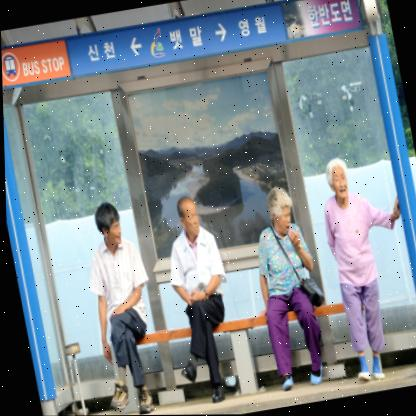person: (239, 164, 340, 388), (311, 149, 402, 381), (162, 179, 248, 400), (84, 194, 164, 415)
